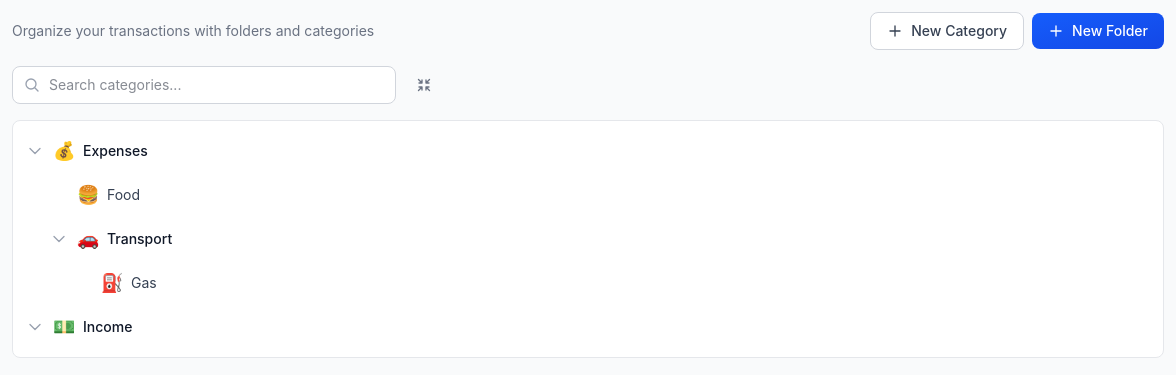
Scenario: CategoriesTab › search functionality › should clear search when clicking clear button
Expected: the text "Expenses" is shown, [83,142,148,159]
Type "Food" into the field with placeholder "Search categories..." at (204,85), box [12,66,396,104]
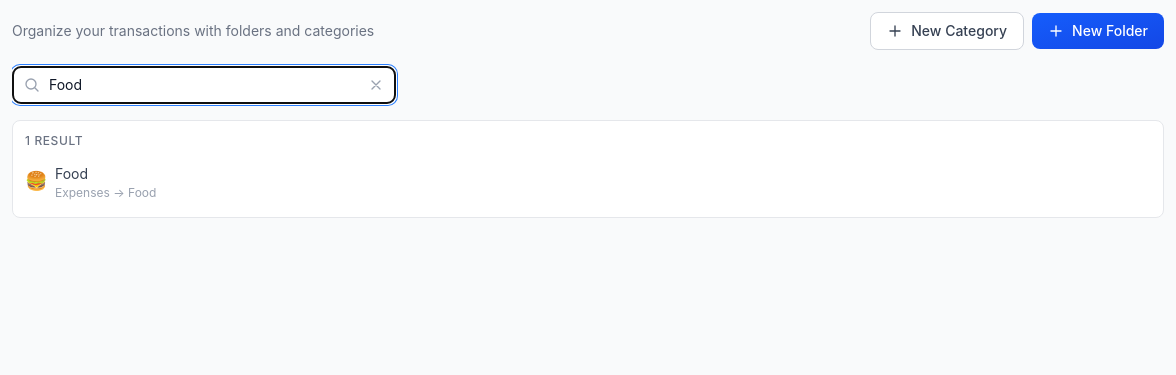
Now the text "1 result" is shown, box [25,133,83,148]
Click the 3rd button at (376,85), box [368,77,384,93]
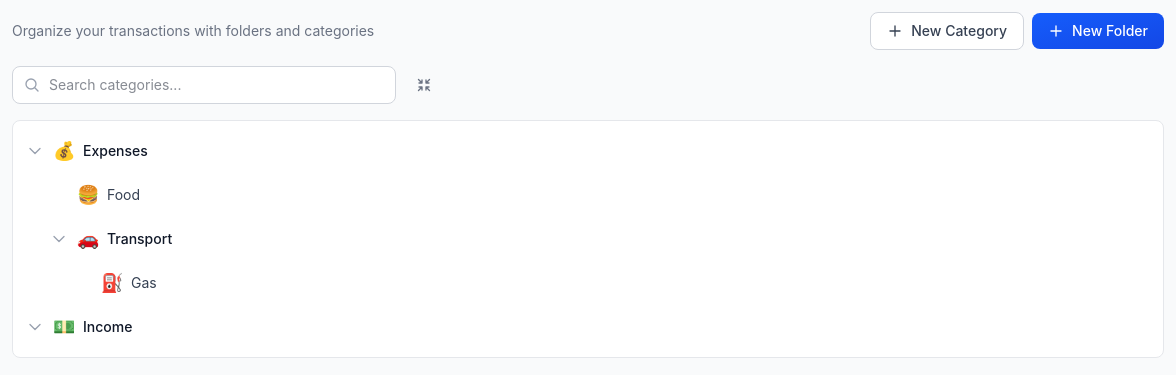
Now the text "1 result" is gone
